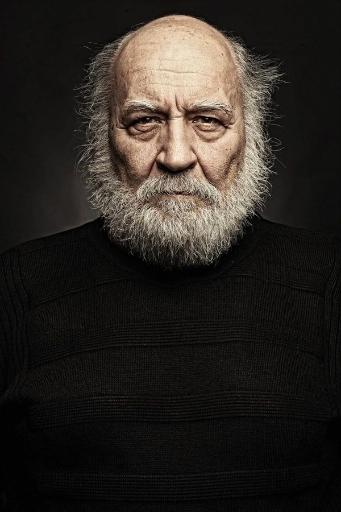left_eye: (192, 115, 228, 131)
right_eye: (126, 115, 164, 133)
